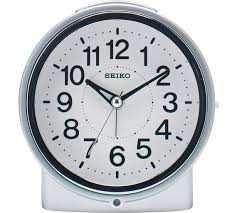alarm_clock: (21, 3, 215, 212)
